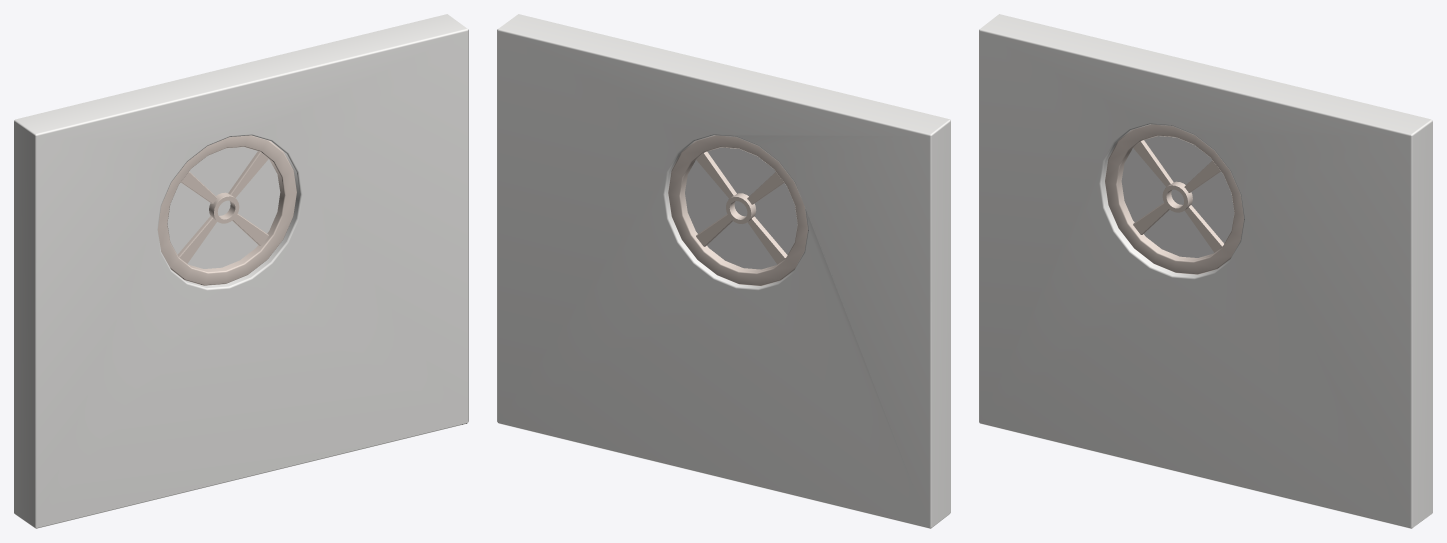
Rendered from Wall_11.glb.
3 views of the same model, side by side, from view 1: azimuth 30°, elevation 25°; view 2: azimuth 150°, elevation 25°; view 3: azimuth 330°, elevation 25° (orthographic).
Parts seen in each view (by area): view 1: Wall_11; view 2: Wall_11; view 3: Wall_11.
Part boxes in pixels (left/top/right/bottom): Wall_11: left=14, top=14, right=468, bottom=528; Wall_11: left=497, top=14, right=950, bottom=528; Wall_11: left=979, top=14, right=1432, bottom=528.
Bounding box in the file's own units: 4.61 × 4 × 0.4.
Materials: 2 (2 with a texture image).
